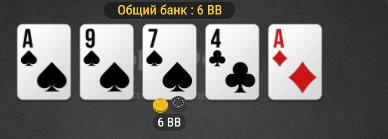4c: (206, 25, 258, 98)
7s: (143, 26, 196, 99)
9s: (81, 26, 132, 99)
Ad: (270, 25, 322, 99)
As: (19, 26, 71, 99)
